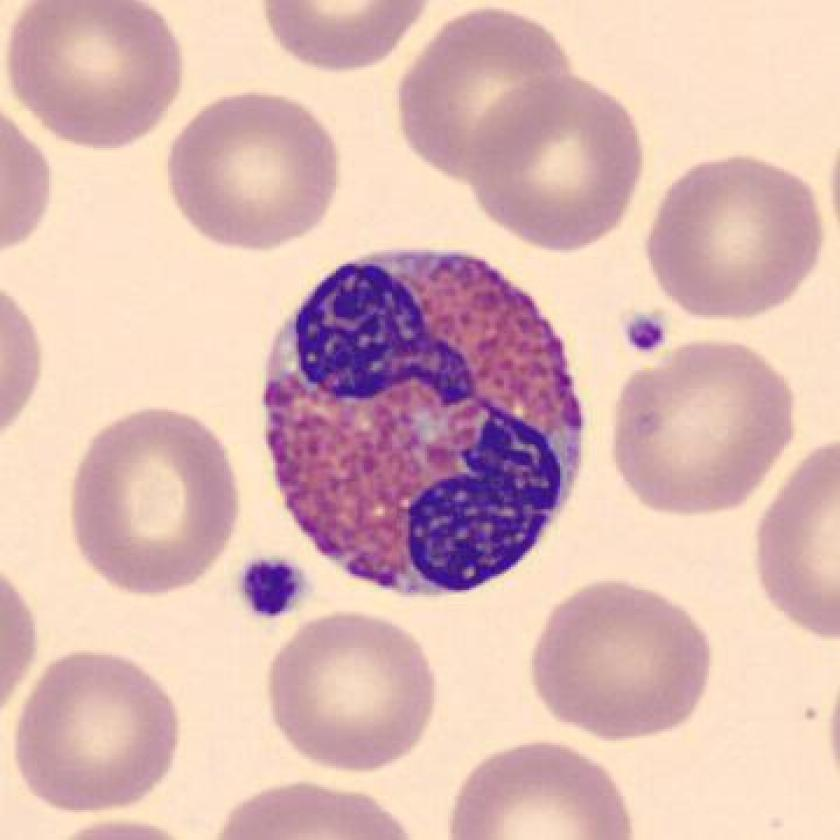eosinophil: (246, 240, 601, 608)
